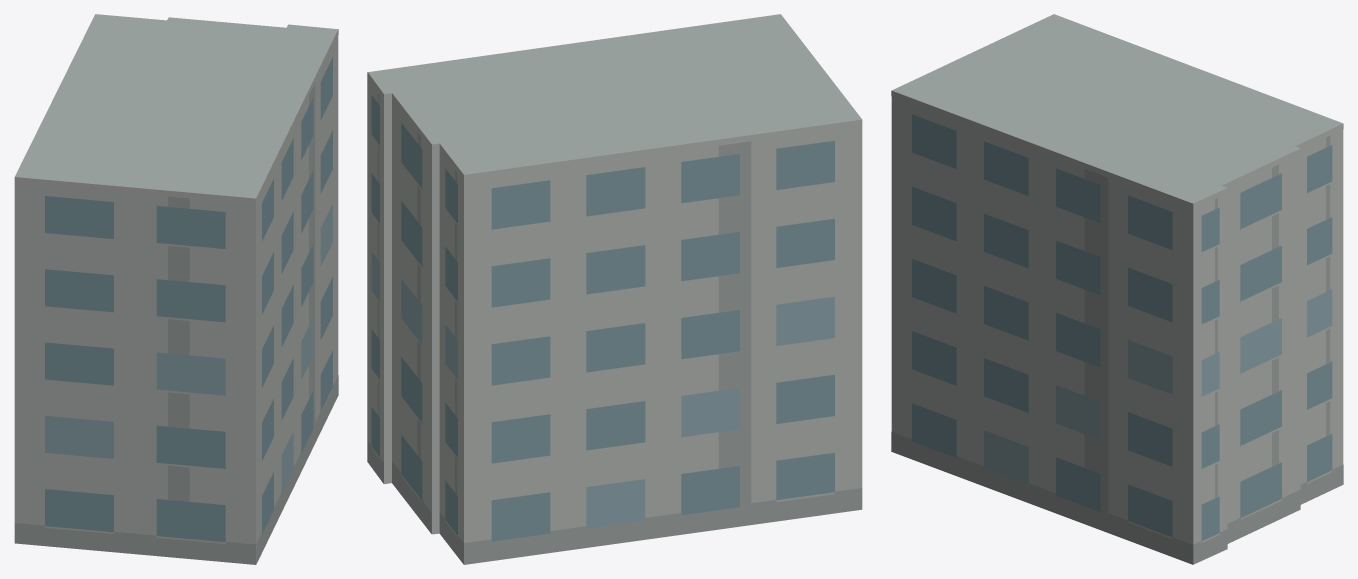
The model's file is survey-upis-32612076.glb.
The picture shows the model from 3 angles, left to right: view 1: azimuth 30°, elevation 25°; view 2: azimuth 150°, elevation 25°; view 3: azimuth 270°, elevation 25°; orthographic projection. The views are drawn at different scales.
Parts seen in each view (by area): view 1: survey-upis-32612076.tmp; view 2: survey-upis-32612076.tmp; view 3: survey-upis-32612076.tmp.
Boxes of the visible parts, x1=… form: survey-upis-32612076.tmp: x1=14, y1=14, x2=338, y2=564; survey-upis-32612076.tmp: x1=367, y1=14, x2=862, y2=564; survey-upis-32612076.tmp: x1=891, y1=14, x2=1343, y2=564.
Bounding box in the file's own units: 17.02 × 15.1 × 17.13.
